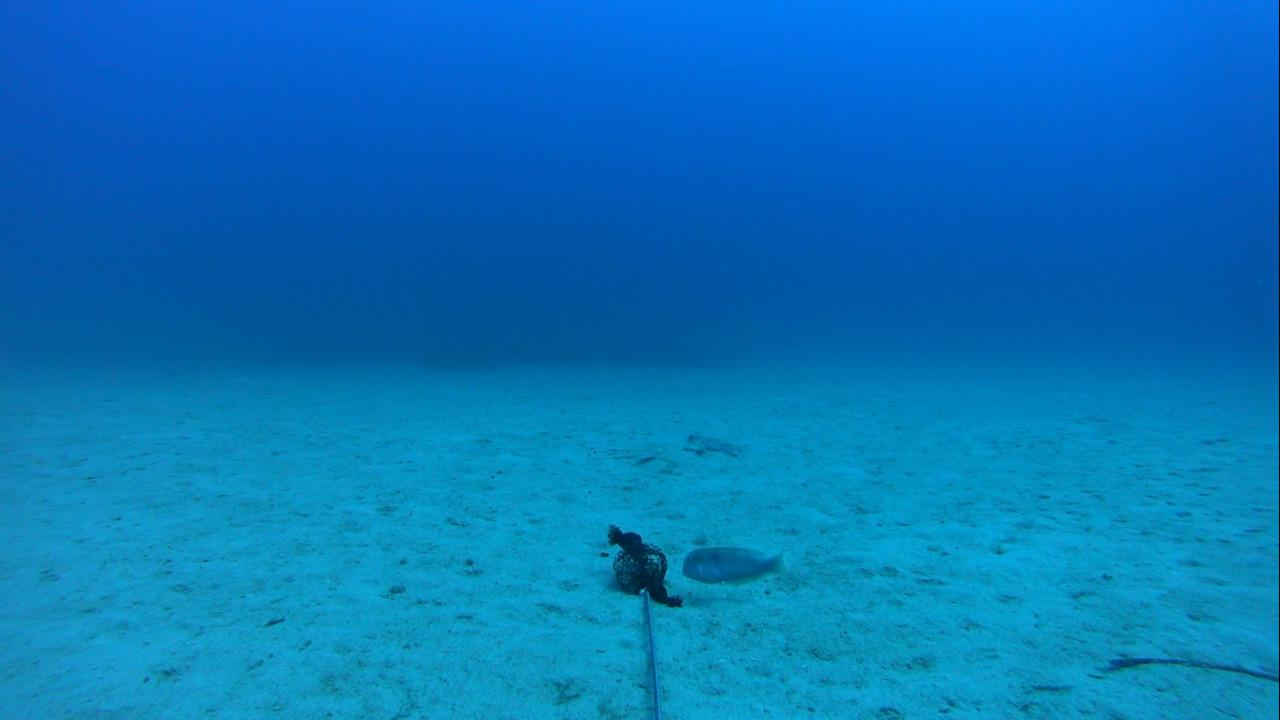dactylopterus: (674, 424, 762, 461), (618, 445, 686, 480)
raor: (675, 541, 786, 585)
